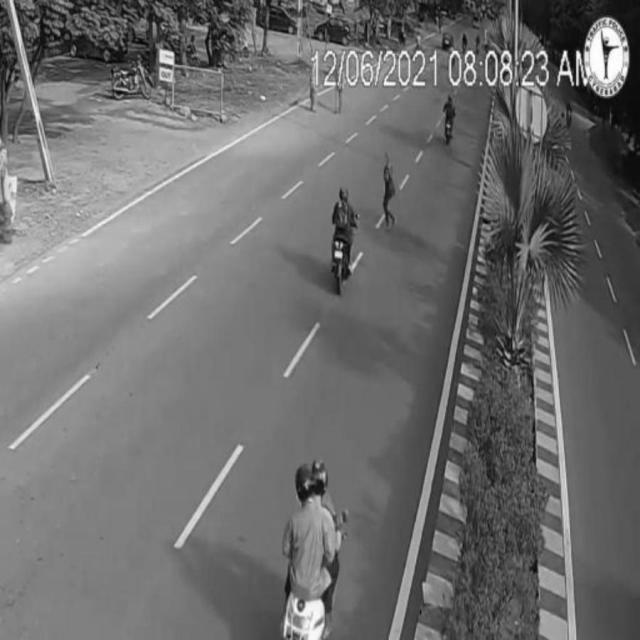person: (381, 153, 397, 230)
vehicle: (283, 460, 347, 632), (327, 183, 361, 291), (438, 97, 456, 147)
